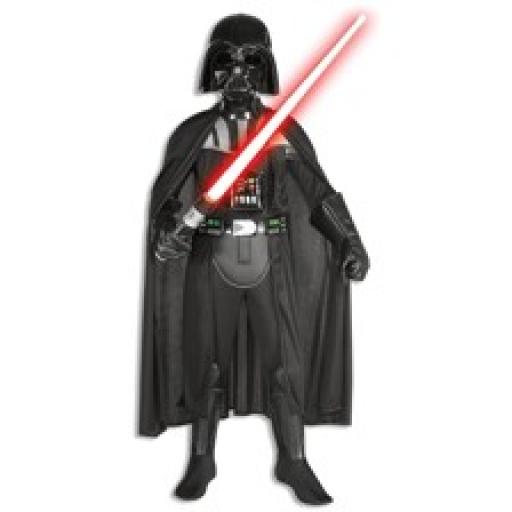human: (147, 15, 373, 512)
sith saber: (154, 8, 370, 262)
